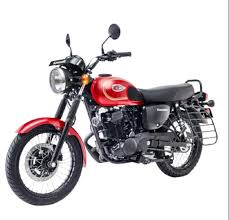MotorCycle: (13, 53, 217, 185)
